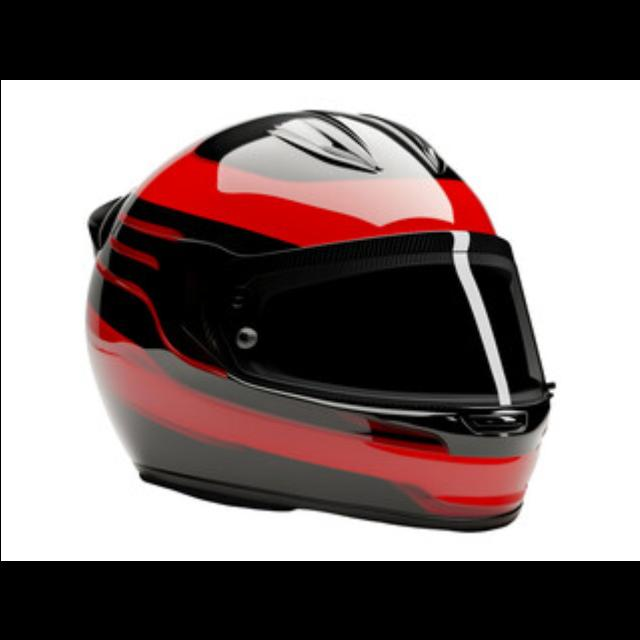motorcycle-helmets: (74, 96, 554, 544)
